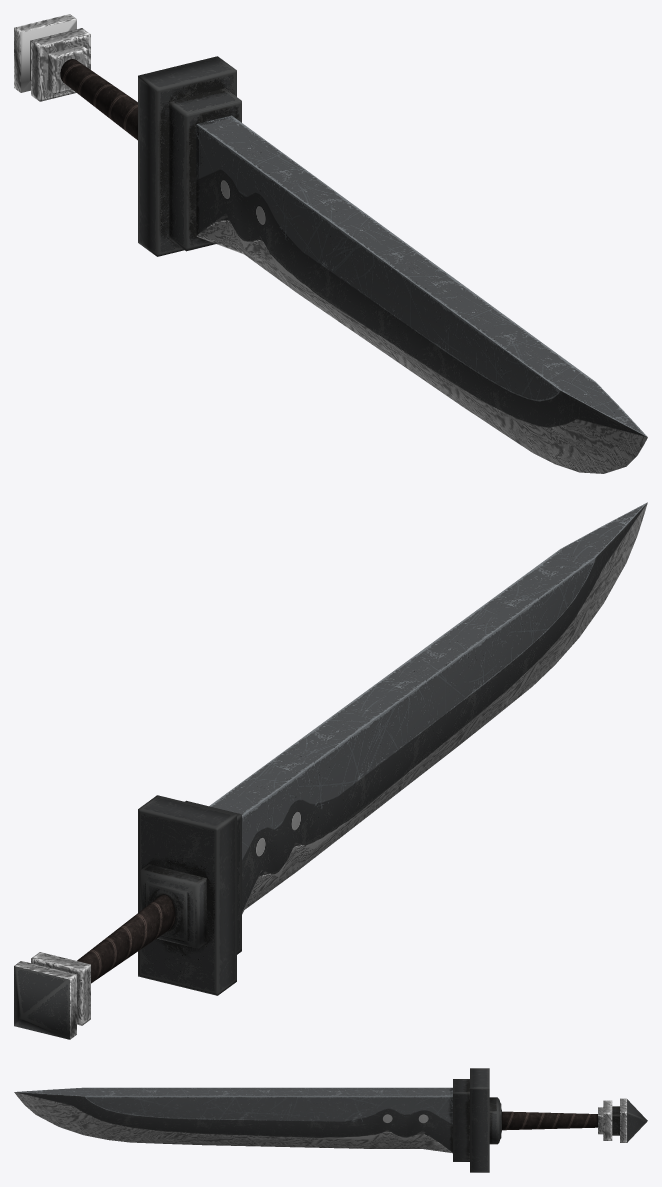
The picture shows the model from 3 angles, top to bottom: view 1: azimuth 30°, elevation 25°; view 2: azimuth 150°, elevation 25°; view 3: azimuth 270°, elevation 25°; orthographic projection. The views are drawn at different scales.
Visible parts, largest first — view 1: blade_low, garda2_low, garda1_low, hndl1_low, hndl3_low, hndl5_low, hndl2_low; view 2: blade_low, garda2_low, hndl5_low, garda3_low, hndl1_low, hndl3_low, garda1_low; view 3: blade_low, garda2_low, hndl1_low, garda1_low, hndl5_low, garda3_low, hndl3_low, hndl4_low.
Boxes of the visible parts, left/top/right/bottom form: blade_low: left=196, top=115, right=647, bottom=473; garda2_low: left=138, top=56, right=236, bottom=256; garda1_low: left=169, top=88, right=241, bottom=251; hndl1_low: left=60, top=59, right=137, bottom=140; hndl3_low: left=31, top=28, right=90, bottom=101; hndl5_low: left=14, top=14, right=76, bottom=92; hndl2_low: left=48, top=45, right=87, bottom=94; blade_low: left=209, top=502, right=647, bottom=914; garda2_low: left=138, top=795, right=236, bottom=995; hndl5_low: left=14, top=961, right=76, bottom=1039; garda3_low: left=141, top=864, right=206, bottom=948; hndl1_low: left=77, top=894, right=175, bottom=983; hndl3_low: left=31, top=952, right=90, bottom=1025; garda1_low: left=185, top=800, right=241, bottom=954; blade_low: left=14, top=1087, right=452, bottom=1153; garda2_low: left=470, top=1068, right=489, bottom=1172; hndl1_low: left=502, top=1111, right=597, bottom=1130; garda1_low: left=453, top=1079, right=469, bottom=1161; hndl5_low: left=620, top=1098, right=647, bottom=1142; garda3_low: left=489, top=1097, right=501, bottom=1144; hndl3_low: left=603, top=1100, right=612, bottom=1140; hndl4_low: left=612, top=1106, right=619, bottom=1135.
Bounding box in the file's own units: 0.1799 × 0.3608 × 2.45.
Materials: 1 (1 with a texture image).
